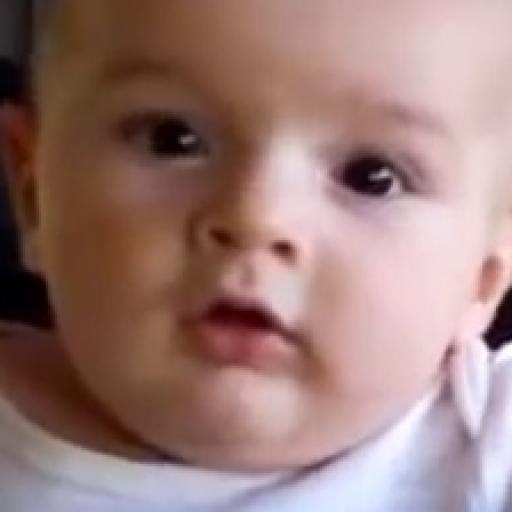Autism: (34, 0, 512, 487)
